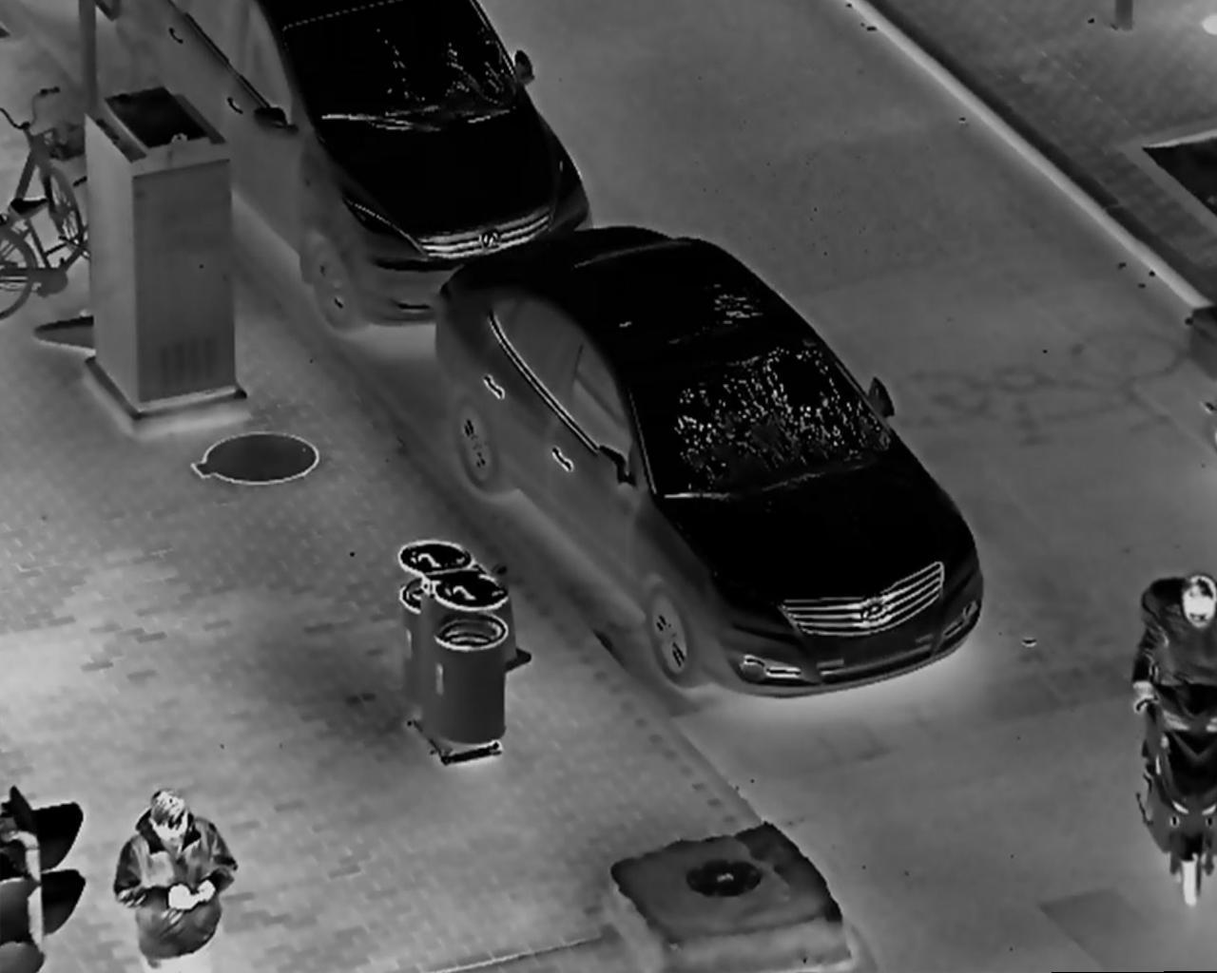person: (113, 782, 242, 973), (1132, 558, 1217, 809)
